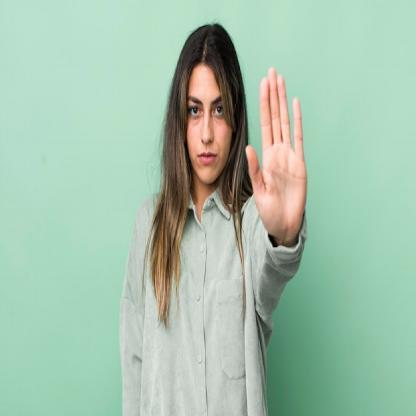stop: (244, 64, 310, 246)
